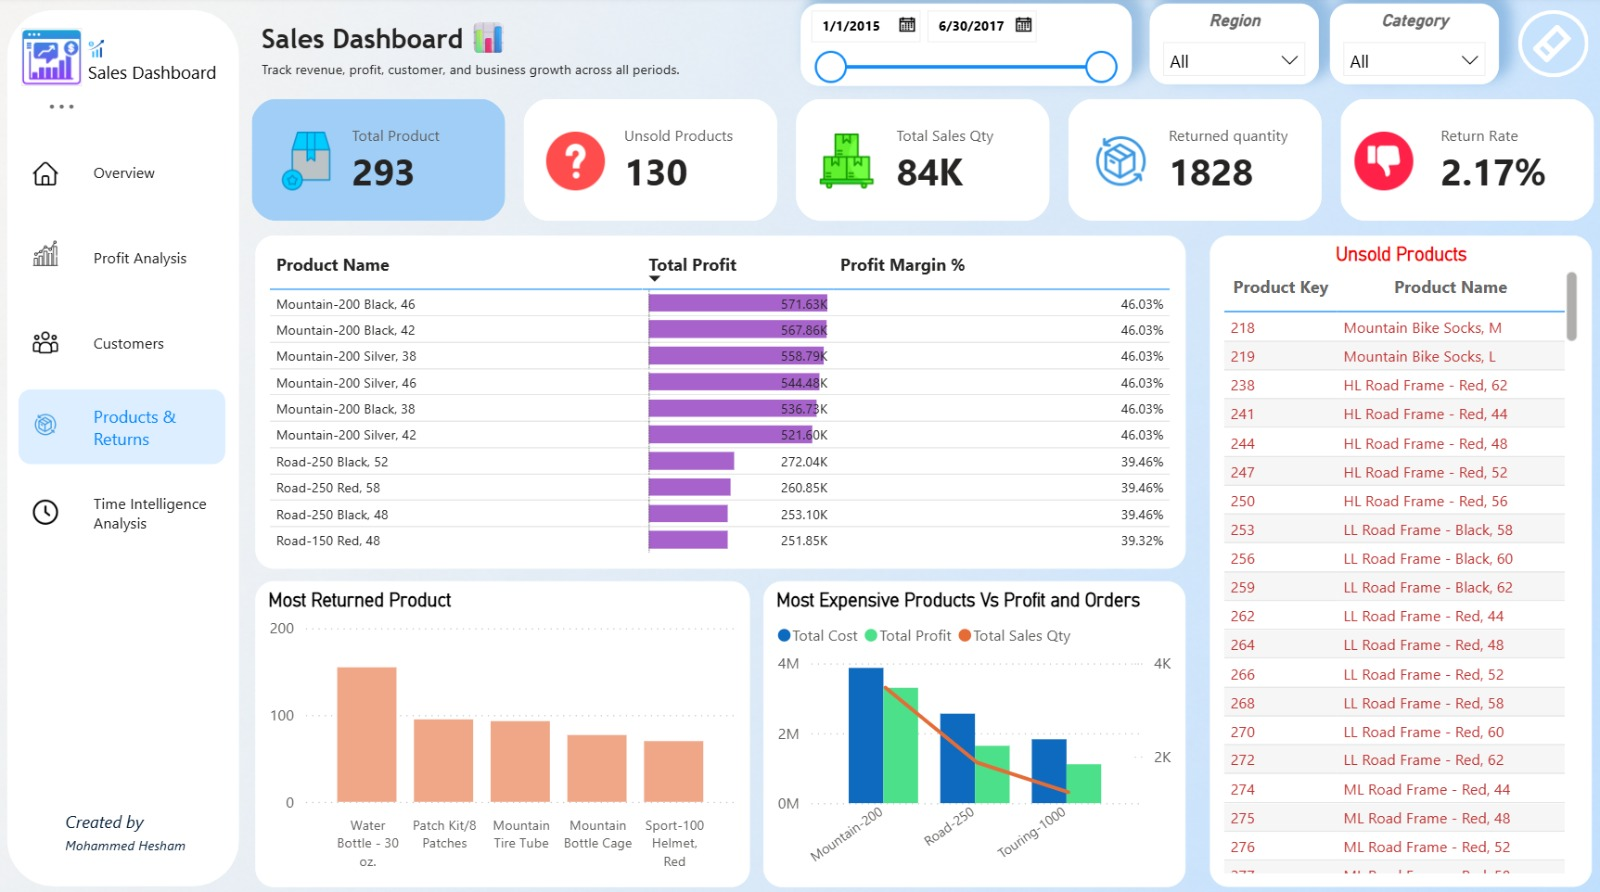

Layout of this report page (visuals, bound fields, positions):
{"tool":"powerbi","page":{"name":"Products & Returns","canvas":[1280,720],"ordinal":3},"visuals":[{"type":"shape","box":[8,12.1,185.1,698.9],"z":0},{"type":"cardVisual","fields":{"Data":["Count(Products.ProductKey)","A Measures.Unsold Products","A Measures.Total Sales Qty","A Measures.Returned quantity","A Measures.Return Rate"]},"box":[193.2,77.8,1088,107.3],"z":1000},{"type":"pageNavigator","box":[8,109.7,174.4,335.4],"z":2000},{"type":"textbox","box":[67.1,47,120.7,30.9],"z":3000},{"type":"image","box":[18.8,25.5,48.3,47],"z":4000},{"type":"image","box":[28.2,128.8,20.1,25.5],"z":5000},{"type":"image","box":[28.2,193.2,20.1,25.5],"z":6000},{"type":"image","box":[28.2,264.3,20.1,25.5],"z":7000},{"type":"image","box":[28.2,330,20.1,25],"z":8000},{"type":"image","box":[28.2,399.8,20.1,24.1],"z":9000},{"type":"textbox","box":[49.6,643.9,118.1,53.7],"z":10000},{"type":"textbox","box":[205.3,12.1,363.6,65.7],"z":11000},{"type":"slicer","fields":{"Values":["Calendar.Date"]},"box":[639.9,7,264.3,65.7],"z":12000},{"type":"slicer","title":"Region","fields":{"Values":["Territories.Country"]},"box":[918.7,6.5,134.6,64.7],"z":13000},{"type":"slicer","title":"Category","fields":{"Values":["Categories.CategoryName"]},"box":[1062.4,6.5,134.6,64.7],"z":14000},{"type":"image","box":[71.1,34.9,14.8,14.8],"z":15000},{"type":"columnChart","title":"Most Returned Product","fields":{"Category":["Products.ProductName"],"Y":["Sum(Returns.ReturnQuantity)"]},"box":[205.3,466.8,394.4,244.2],"z":16000},{"type":"lineClusteredColumnComboChart","title":"Most Expensive Products Vs Profit and Orders","fields":{"Category":["Products.ModelName"],"Y":["A Measures.Total Cost","A Measures.Total Profit"],"Y2":["A Measures.Total Sales Qty"]},"box":[610.4,466.8,336.7,244.2],"z":17000},{"type":"tableEx","fields":{"Values":["Products.ProductName","Sum(Sales.Profit)","Sales.Profit Margin"]},"box":[205.3,191.8,741.9,265.6],"z":18000},{"type":"tableEx","title":"Unsold Products ","fields":{"Values":["Unsold Products.ProductKey","Unsold Products.Product Name"]},"box":[967.2,191.8,304.5,519.2],"z":19000},{"type":"image","box":[214.6,108.7,63.1,47],"z":20000},{"type":"image","box":[429.3,108.7,63.1,47],"z":21000},{"type":"image","box":[645.3,108.7,63.1,47],"z":22000},{"type":"image","box":[863.9,108.7,63.1,47],"z":23000},{"type":"image","box":[1074.6,108.7,63.1,47],"z":24000},{"type":"actionButton","box":[1212.3,12.1,56.3,53.6],"z":25000}]}

Visuals, with their boxes on the page's 1280x720 design canvas (x1, y1, x2, y2). These are canvas units, not pixel positions in the 1600x892 screenshot, which may show the page scaled, cropped or inside an application window:
shape: [left=8, top=12, right=193, bottom=711]
cardVisual - Count(Products.ProductKey) x A Measures.Unsold Products: [left=193, top=78, right=1281, bottom=185]
pageNavigator: [left=8, top=110, right=182, bottom=445]
textbox: [left=67, top=47, right=188, bottom=78]
image: [left=19, top=26, right=67, bottom=72]
image: [left=28, top=129, right=48, bottom=154]
image: [left=28, top=193, right=48, bottom=219]
image: [left=28, top=264, right=48, bottom=290]
image: [left=28, top=330, right=48, bottom=355]
image: [left=28, top=400, right=48, bottom=424]
textbox: [left=50, top=644, right=168, bottom=698]
textbox: [left=205, top=12, right=569, bottom=78]
slicer - Calendar.Date: [left=640, top=7, right=904, bottom=73]
"Region" slicer: [left=919, top=6, right=1053, bottom=71]
"Category" slicer: [left=1062, top=6, right=1197, bottom=71]
image: [left=71, top=35, right=86, bottom=50]
"Most Returned Product" columnChart: [left=205, top=467, right=600, bottom=711]
"Most Expensive Products Vs Profit and Orders" lineClusteredColumnComboChart: [left=610, top=467, right=947, bottom=711]
tableEx - Products.ProductName x Sum(Sales.Profit): [left=205, top=192, right=947, bottom=457]
"Unsold Products " tableEx: [left=967, top=192, right=1272, bottom=711]
image: [left=215, top=109, right=278, bottom=156]
image: [left=429, top=109, right=492, bottom=156]
image: [left=645, top=109, right=708, bottom=156]
image: [left=864, top=109, right=927, bottom=156]
image: [left=1075, top=109, right=1138, bottom=156]
actionButton: [left=1212, top=12, right=1269, bottom=66]
